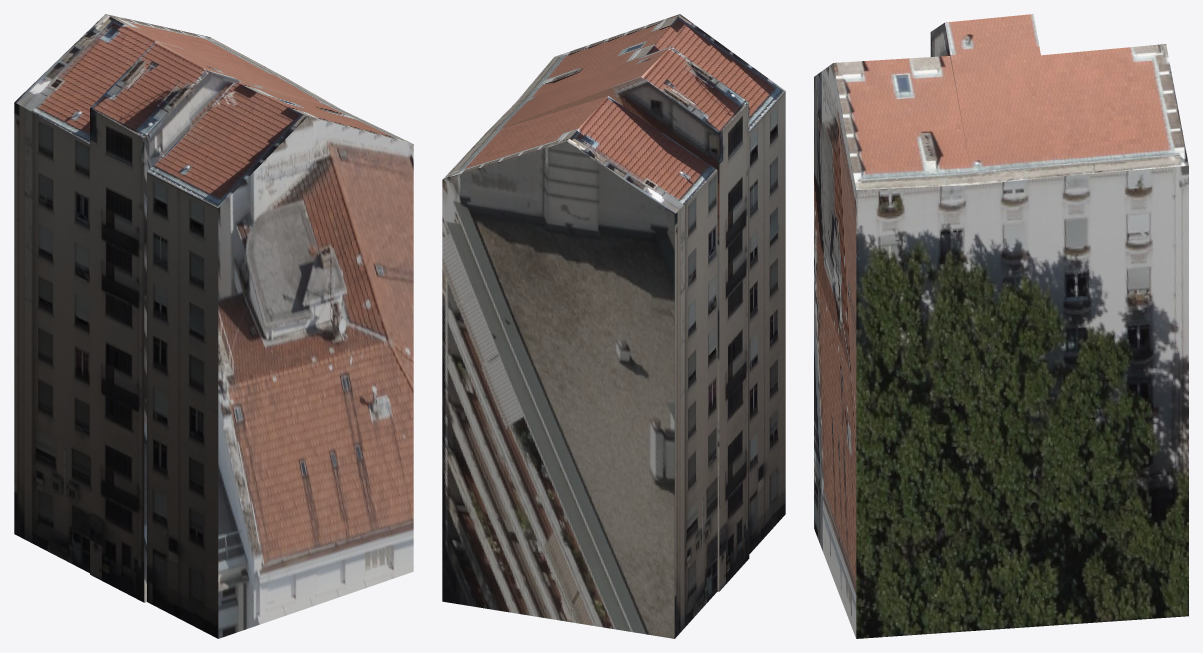
The picture shows the model from 3 angles, left to right: view 1: azimuth 30°, elevation 25°; view 2: azimuth 150°, elevation 25°; view 3: azimuth 270°, elevation 25°; orthographic projection. The views are drawn at different scales.
Visible parts, largest first — view 1: Z_UP; view 2: Z_UP; view 3: Z_UP.
Boxes of the visible parts, bbox=[...] form: Z_UP: bbox=[14, 14, 413, 638]; Z_UP: bbox=[442, 14, 785, 638]; Z_UP: bbox=[814, 14, 1188, 638].
Size of the model in its own units: 17.83 by 33.39 by 21.14.
Materials: 2 (1 with a texture image).
